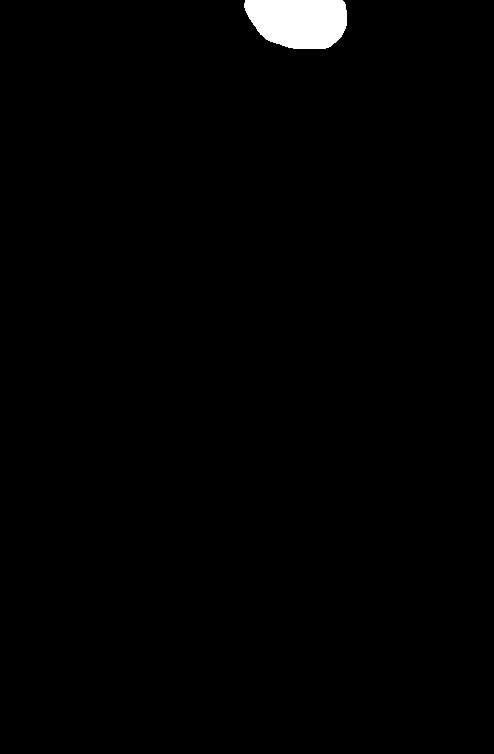veins_detect: (243, 3, 355, 56)
veins_seg: (245, 1, 346, 49)
